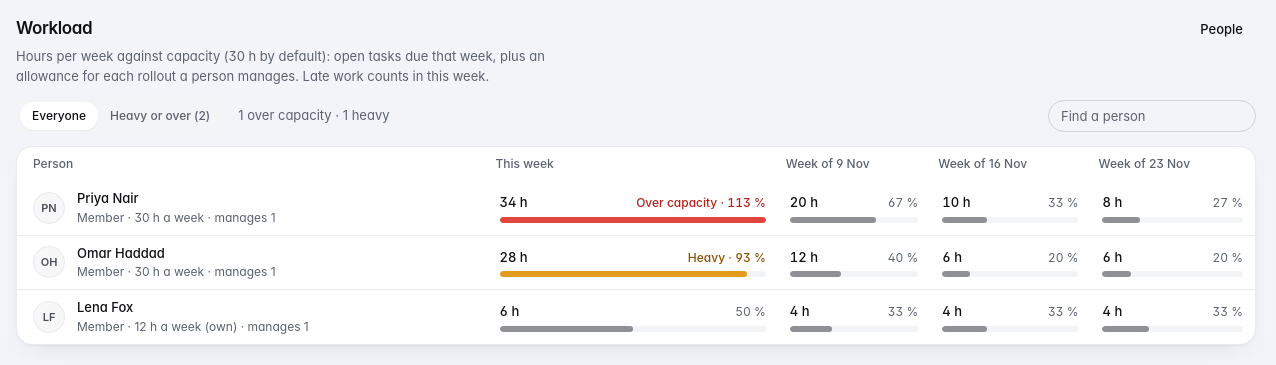
Test case: People › Workload › filters by name and to the heavy or over
The image size is (1276, 365).
Check: the heading "Workload" is shown, box left=16, top=16, right=92, bottom=42
Click the radio button labelled "Heavy or over (2)" at (160, 116), box left=98, top=102, right=222, bottom=130
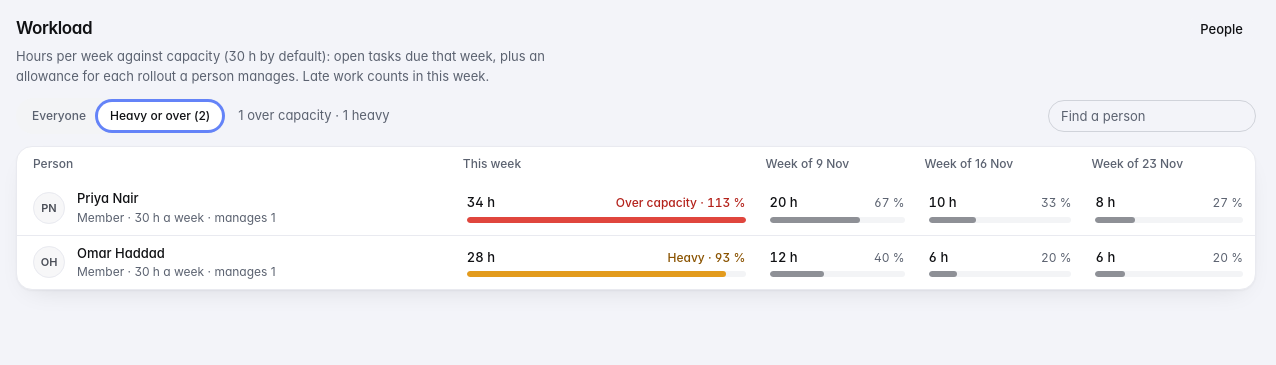
Type "omar" into the field labelled "Find a person" at (1152, 116), box left=1048, top=100, right=1256, bottom=132
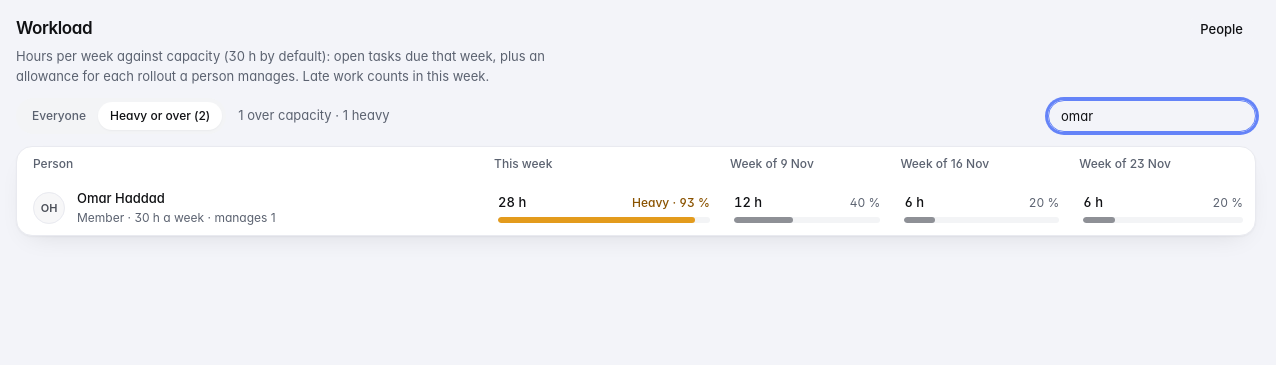
Replace the text in the field named "Find a person" with "lena" at (1152, 116), box left=1048, top=100, right=1256, bottom=132
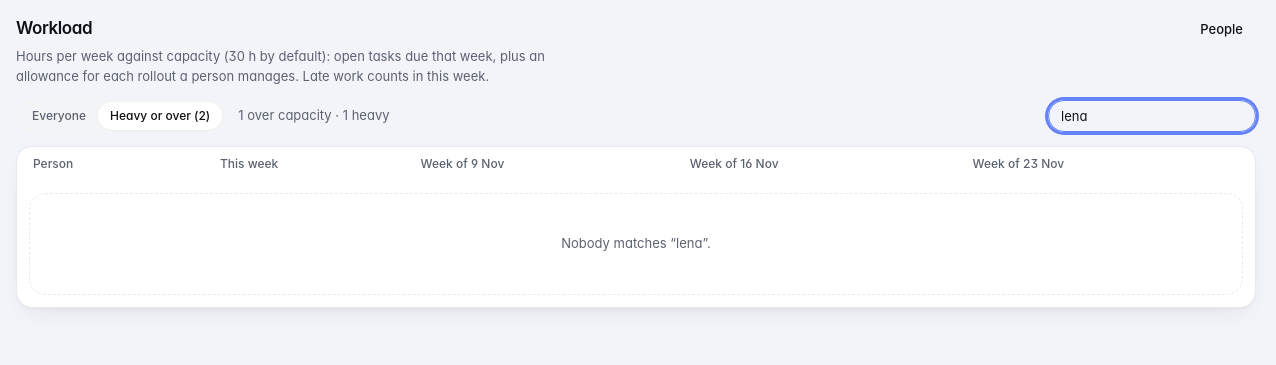
Check: the text "Nobody matches “lena”." is shown, box left=29, top=193, right=1243, bottom=294
